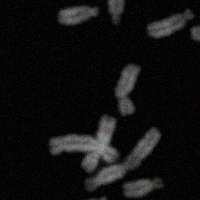chromosome: (84, 127, 162, 191), (80, 112, 115, 171), (49, 135, 117, 164), (145, 7, 193, 39), (113, 62, 140, 116), (58, 4, 99, 26), (124, 177, 164, 199), (108, 0, 125, 25), (191, 0, 200, 41), (81, 197, 108, 200)
